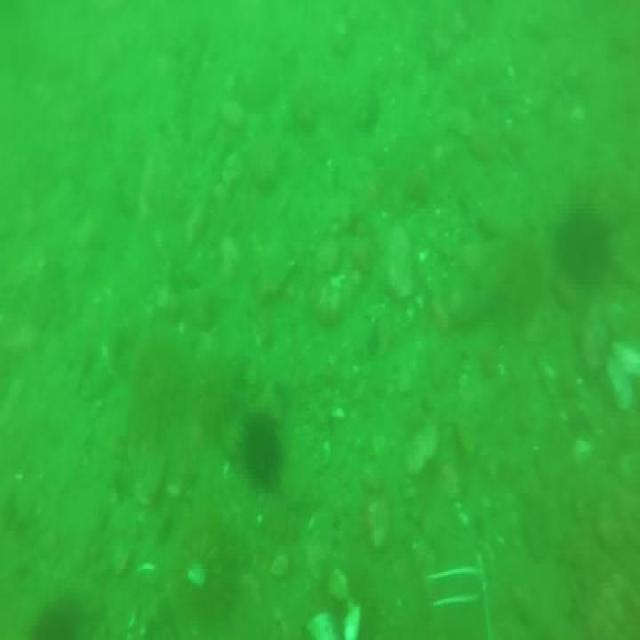echinus: (173, 520, 234, 627), (551, 201, 612, 292), (239, 411, 274, 480)
scallop: (606, 337, 636, 409), (407, 428, 438, 472), (308, 611, 331, 640), (343, 603, 360, 640), (270, 551, 288, 580)
